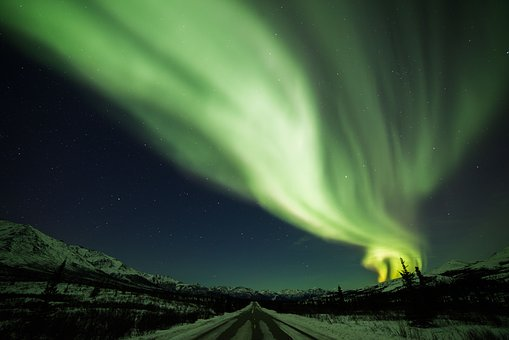mountain: (5, 226, 509, 338)
sky: (4, 3, 509, 258)
